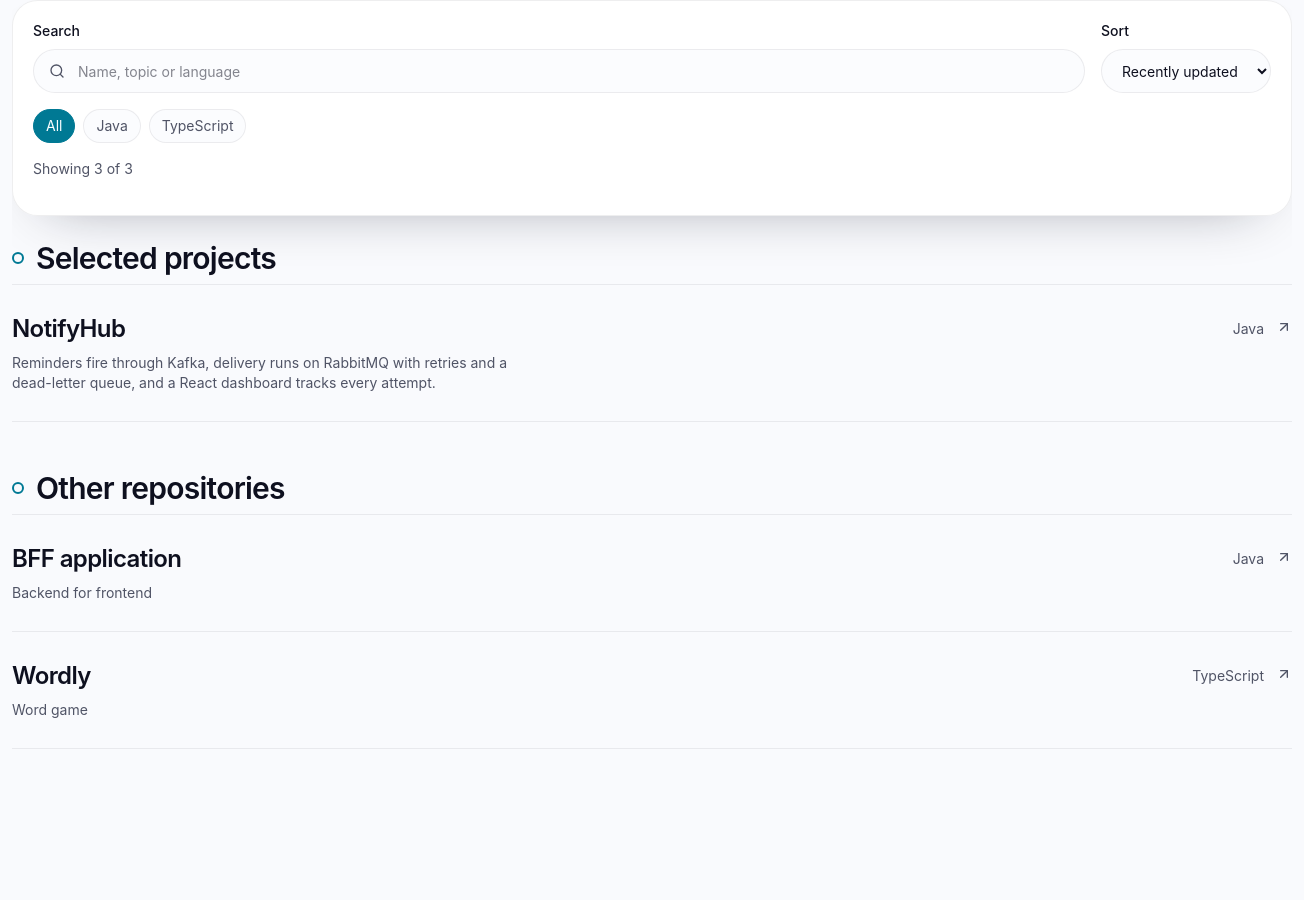
Test case: ProjectBrowser › drops a group that a filter empties
Type "word game" into the search field labelled "Search" at (559, 71), box left=33, top=49, right=1085, bottom=93
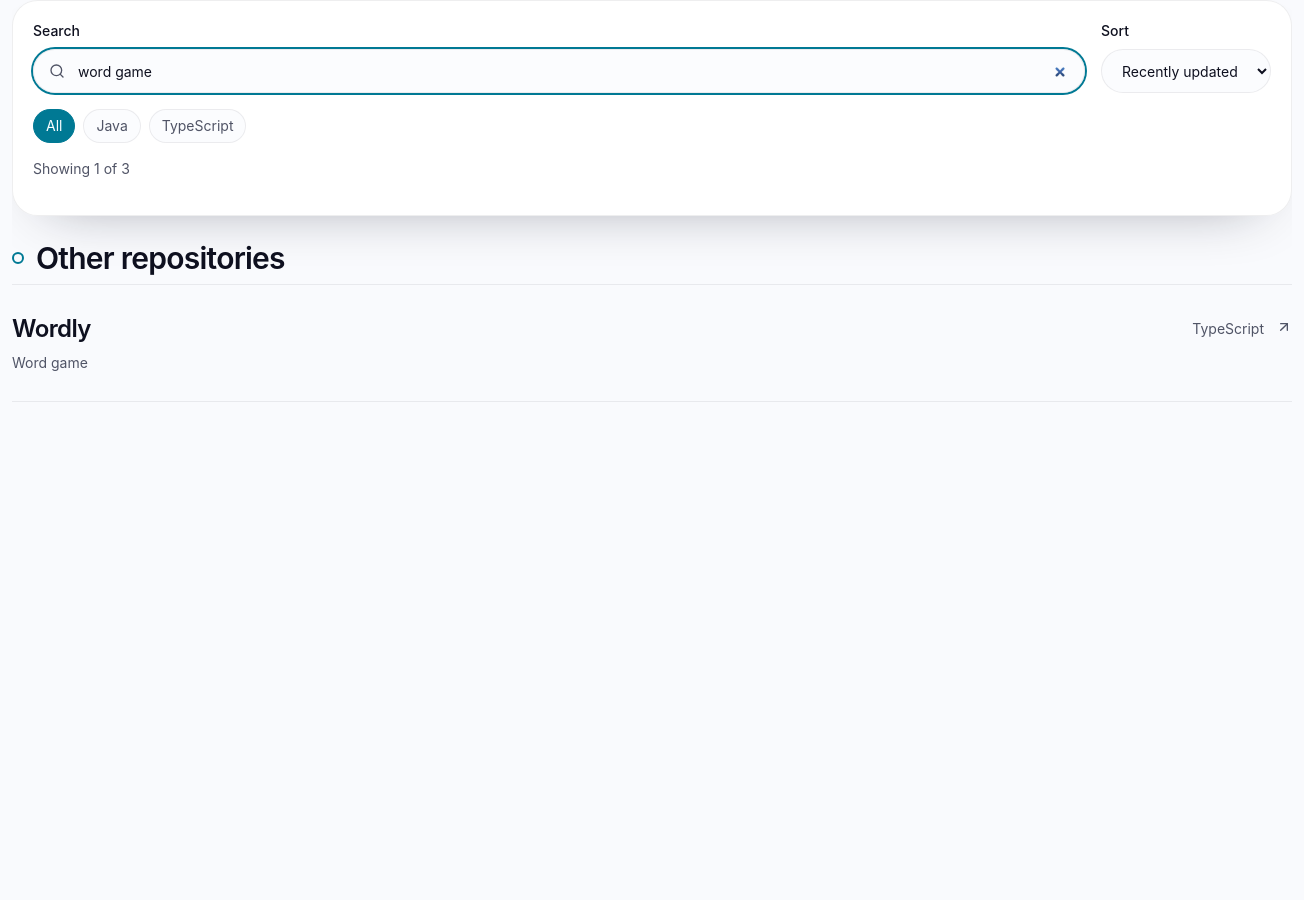
Check: the heading "Other repositories" is shown, box left=36, top=240, right=285, bottom=276
Check: the heading "Selected projects" is gone
